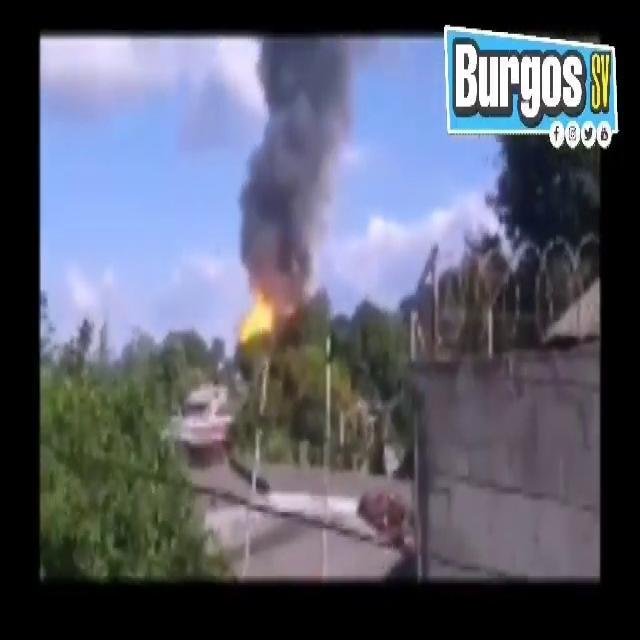Fire: (232, 294, 275, 340)
Smoke: (240, 38, 340, 299)
